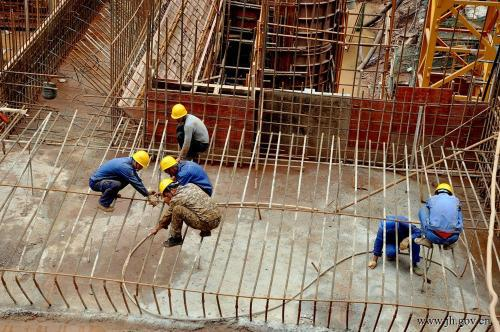helmet: (156, 153, 183, 174), (433, 178, 458, 200), (157, 177, 181, 199), (131, 148, 151, 171), (169, 100, 189, 123), (379, 212, 401, 231)
